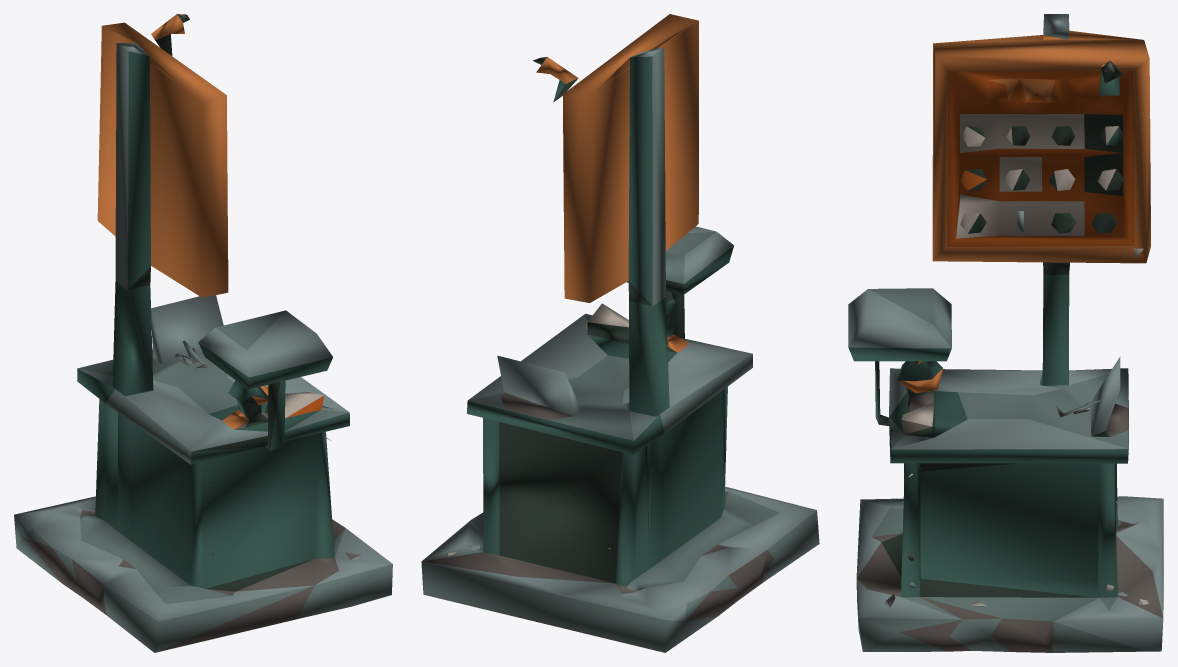
File: poi_tally_stand_lod2.glb
3 renders of one model, left to right at view 1: azimuth 30°, elevation 25°; view 2: azimuth 150°, elevation 25°; view 3: azimuth 270°, elevation 25°, orthographic. The views are drawn at different scales.
Parts seen in each view (by area): view 1: TallyStand; view 2: TallyStand; view 3: TallyStand.
Boxes of the visible parts, x1,y1,x2,y2 form: TallyStand: (14, 14, 392, 652); TallyStand: (421, 14, 819, 652); TallyStand: (848, 14, 1163, 652).
Bounding box in the file's own units: 1.87 × 3.81 × 1.98.
